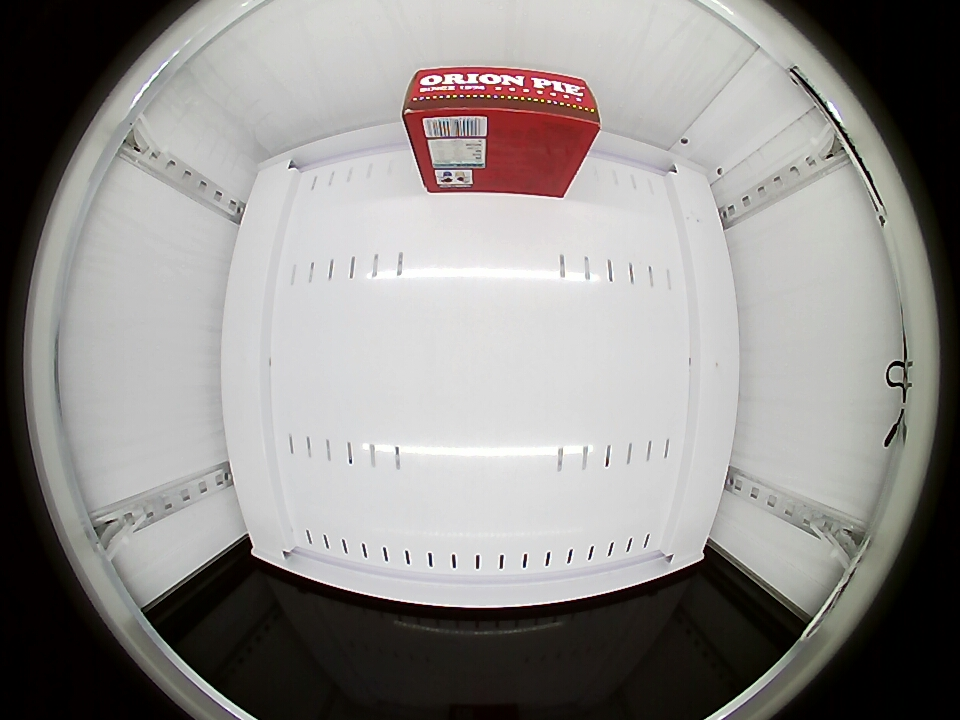haoliyou: (400, 65, 602, 195)
